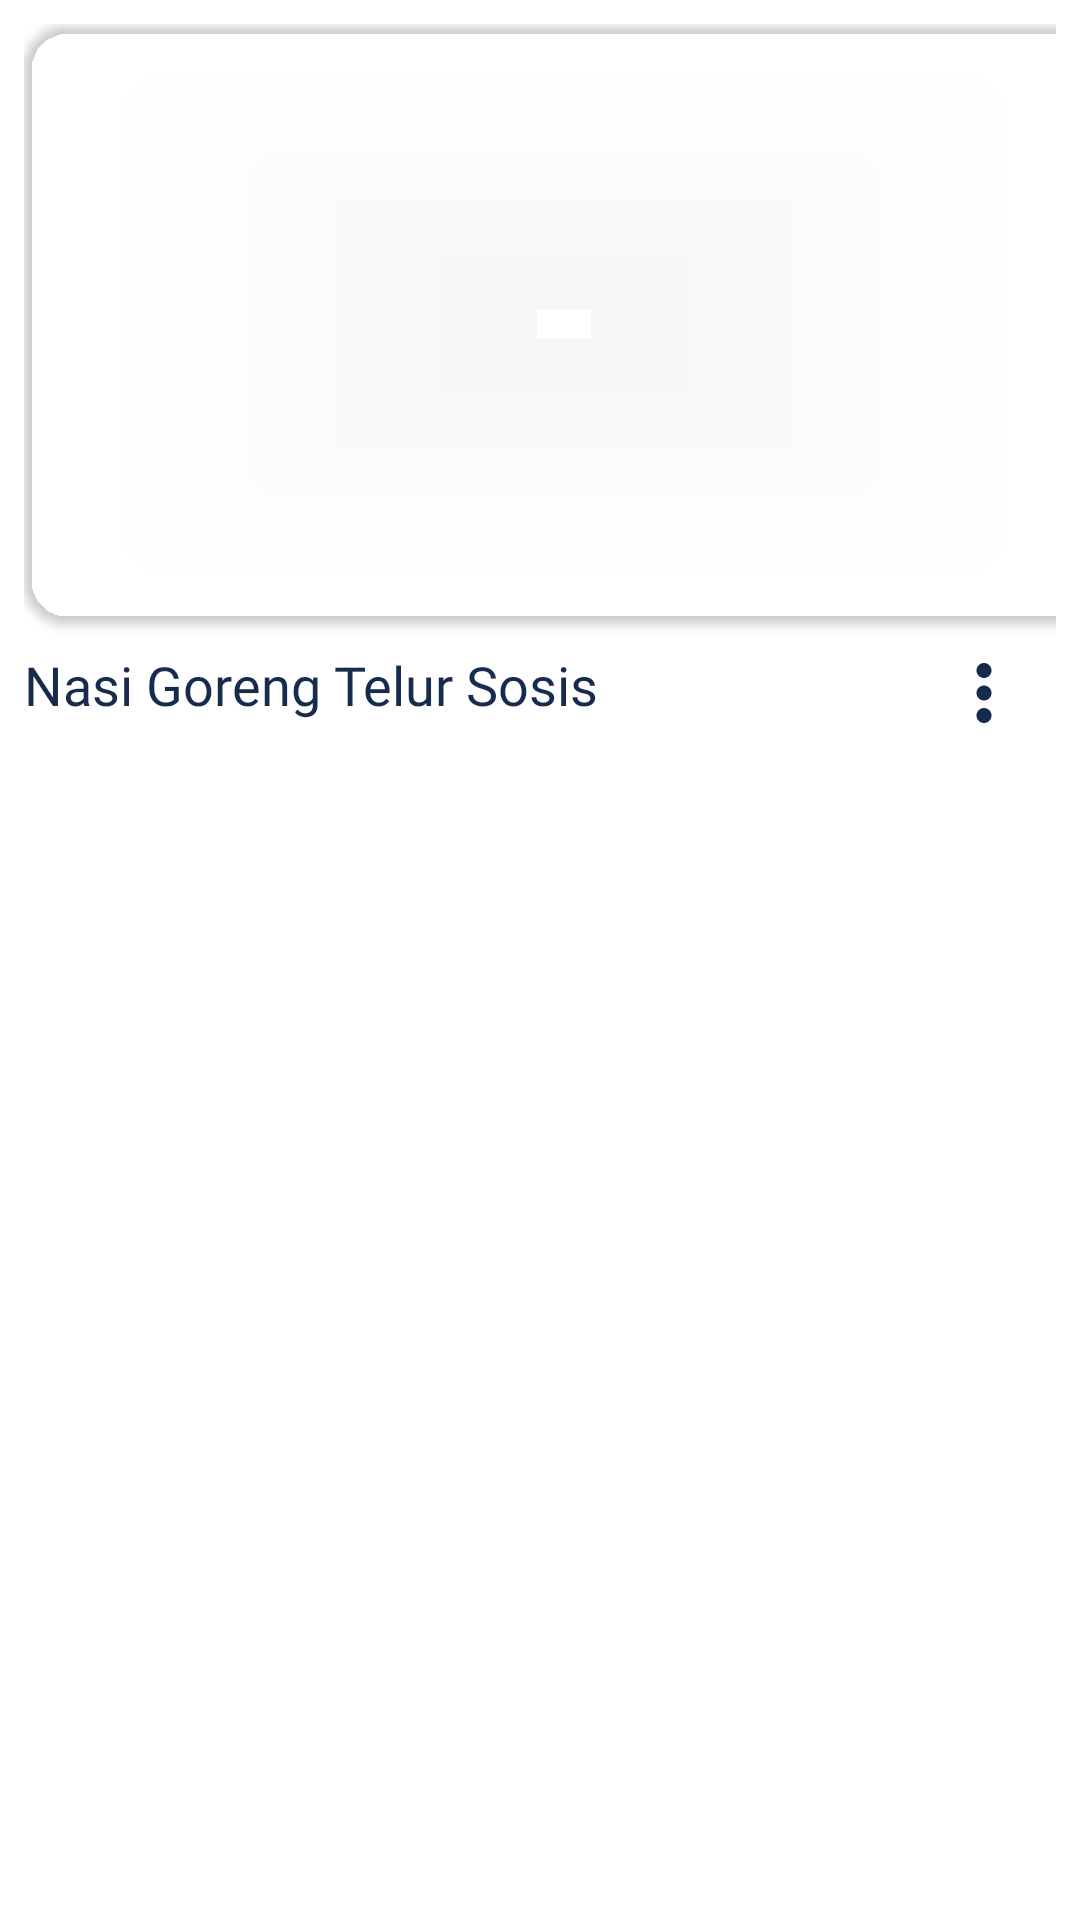

Screen size 1080 × 1920. Icon name, then its box in pixels as (x1, y1, x2, y2):
more vert: (976, 663, 992, 723)
